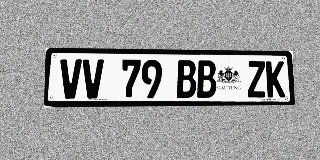7: (120, 59, 141, 98)
9: (142, 60, 162, 98)
B: (176, 60, 196, 98), (197, 60, 216, 98)
K: (266, 61, 285, 97)
V: (59, 59, 82, 99), (82, 59, 104, 99)
Z: (247, 61, 266, 97)
